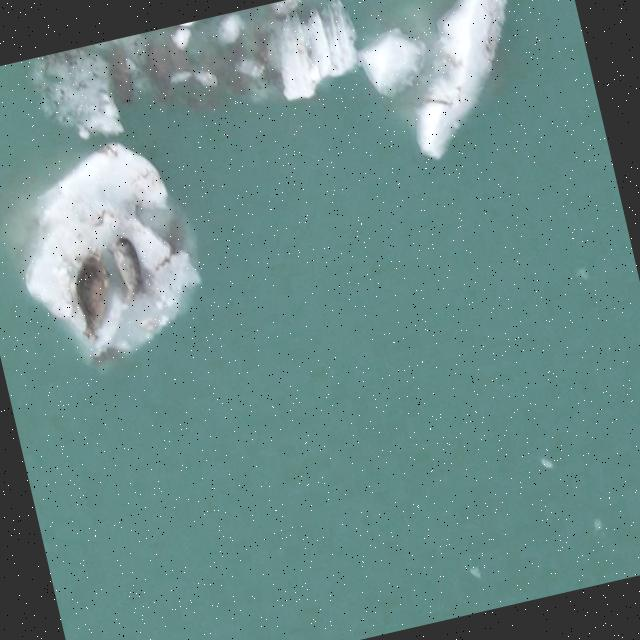seal: (73, 249, 109, 337), (108, 233, 146, 303)
